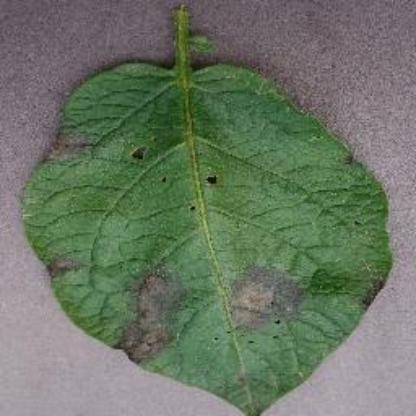Late-Blight: (23, 12, 398, 416)
